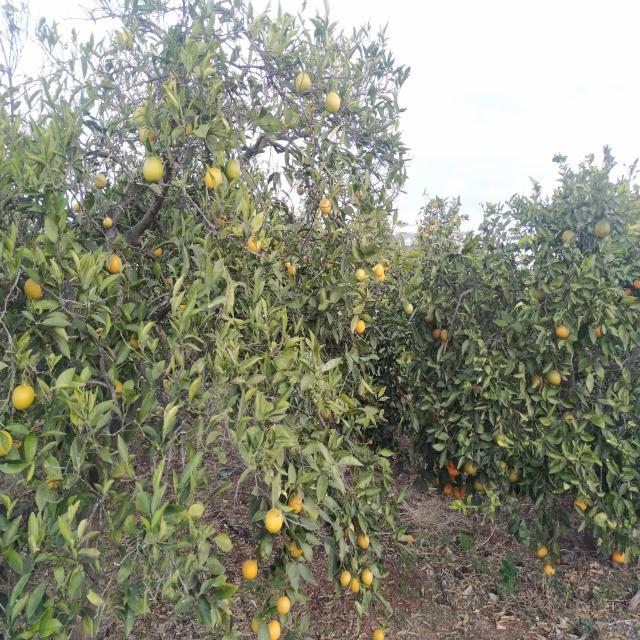Jeruk Belum Matang: (12, 386, 35, 410), (143, 156, 163, 182), (296, 72, 311, 96), (0, 429, 12, 457), (326, 91, 340, 114), (226, 158, 240, 180), (594, 220, 610, 238), (561, 228, 576, 242), (548, 370, 561, 384), (533, 288, 546, 302), (507, 468, 519, 482), (356, 268, 366, 283), (493, 432, 505, 444), (474, 478, 486, 490), (465, 462, 476, 474), (440, 329, 450, 342), (404, 302, 414, 314), (404, 352, 414, 362), (532, 375, 540, 387), (433, 328, 441, 338), (419, 305, 426, 314)
Jeruk Sudah Matang: (265, 508, 283, 534), (24, 277, 43, 301), (205, 168, 222, 188), (106, 254, 122, 274), (242, 560, 258, 580), (139, 127, 156, 145), (268, 619, 282, 640), (276, 596, 290, 615), (251, 615, 265, 633), (288, 496, 302, 514), (110, 380, 122, 400), (289, 540, 302, 558), (248, 236, 262, 252), (362, 568, 374, 586), (340, 570, 351, 588), (612, 549, 626, 563), (358, 533, 370, 549), (556, 324, 569, 338), (319, 198, 331, 213), (574, 498, 586, 512), (95, 174, 106, 189), (350, 577, 360, 593), (536, 546, 549, 558), (543, 563, 555, 576), (460, 483, 470, 497), (373, 629, 385, 640), (452, 486, 462, 499), (356, 321, 366, 334), (448, 467, 460, 477), (374, 265, 384, 276), (594, 325, 602, 338), (153, 246, 162, 257), (443, 483, 452, 494), (103, 218, 112, 228), (288, 266, 296, 276), (377, 272, 385, 282), (624, 287, 632, 296), (634, 280, 640, 290), (284, 261, 291, 268), (432, 202, 438, 208), (418, 226, 423, 231)
